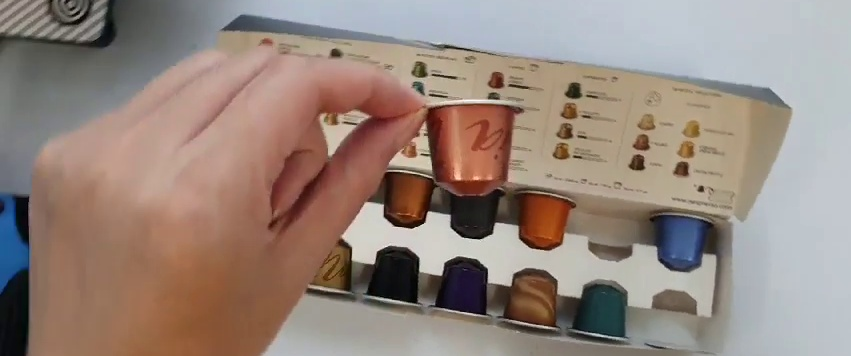capsule_6: (417, 95, 524, 201)
